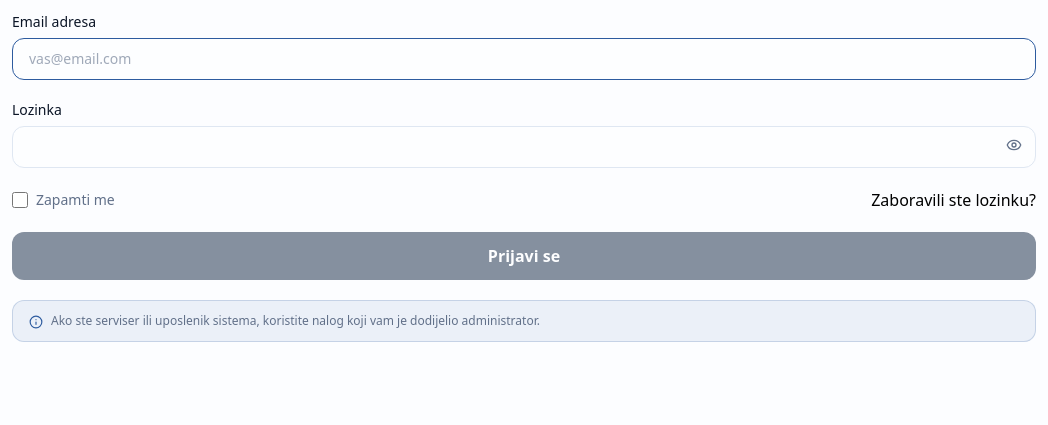
it: LoginForm › submits happy path, shows success, then redirects user
In the field labelled "Email adresa": (524, 59) [12, 38, 1036, 80], type "user@example.com"
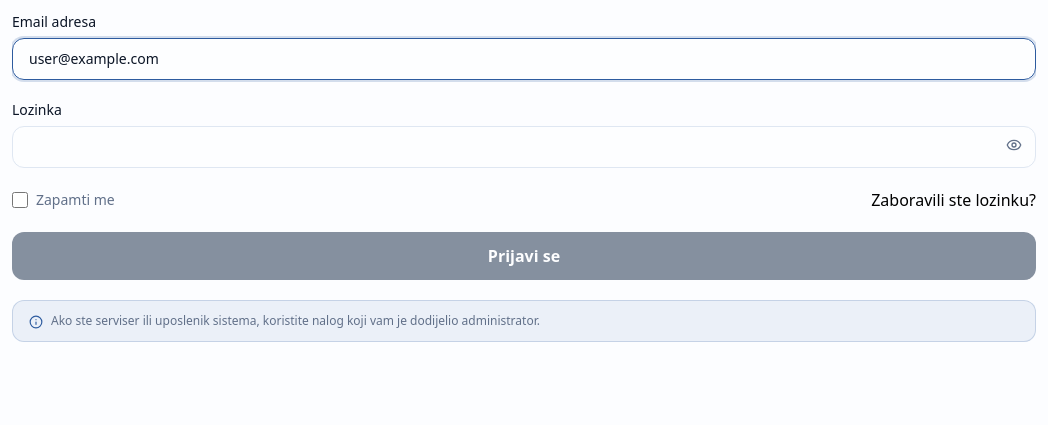
In the password field labelled "Lozinka": (524, 147) [12, 126, 1036, 168], type "Abcd123!"
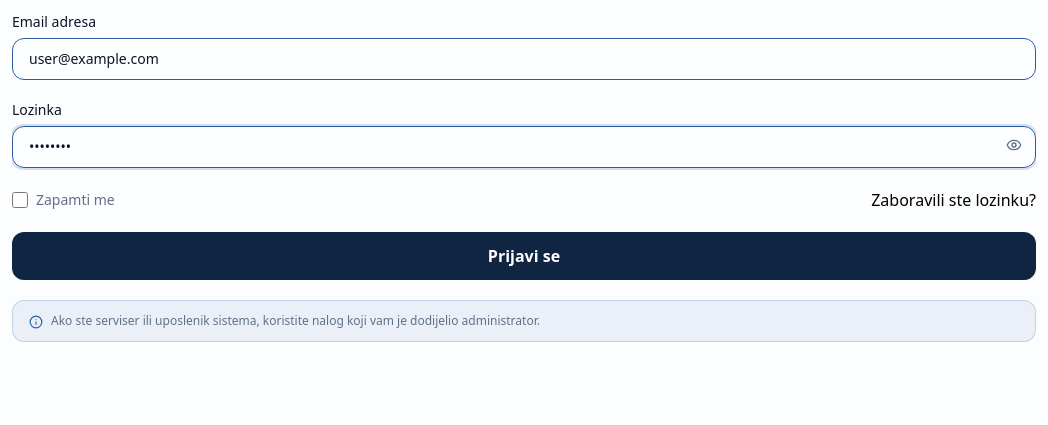
Click the button "Prijavi se": (524, 256) [12, 232, 1036, 280]
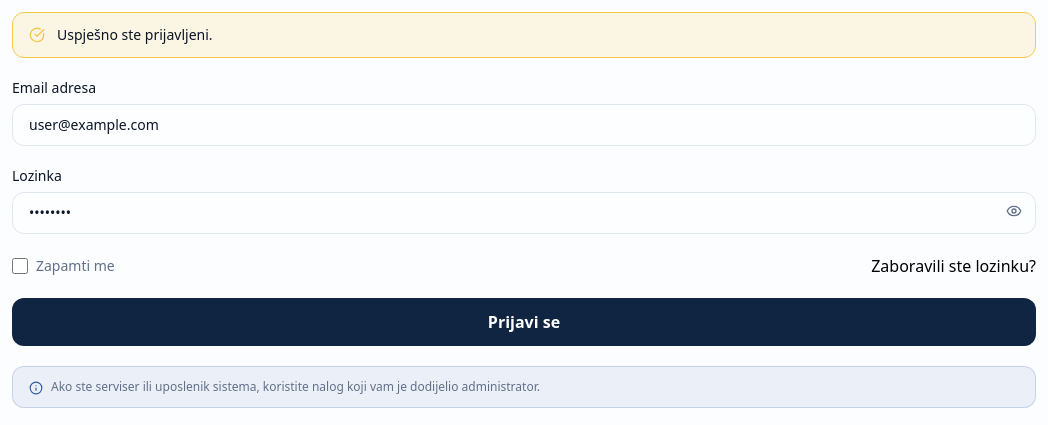
Check: the text "Uspješno ste prijavljeni." is shown, box [57, 25, 212, 45]
